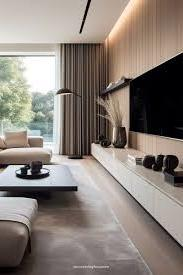TV: (129, 53, 183, 140)
console: (89, 139, 183, 249)
light: (56, 87, 87, 164)
sofa: (0, 130, 52, 196), (0, 196, 40, 266)
table: (0, 165, 79, 200)
